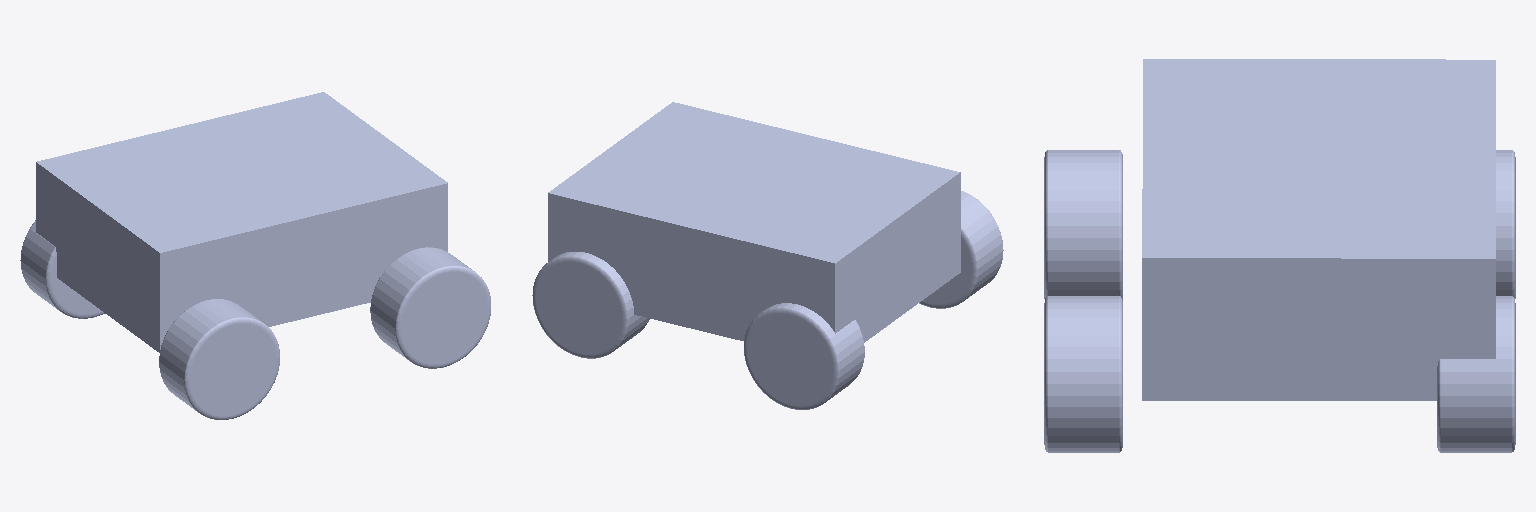
robot.urdf — robot_description:
<?xml version="1.0"?>

<robot name="robot_description">
<!--################################# BASE #####################################-->
  <link name="base_link">
    <inertial>
      <origin
        xyz="0.0030946 4.78250032638821E-11 0.053305"
        rpy="0 0 0" />
      <mass
        value="47.873" />
      <inertia
        ixx="0.774276574699151"
        ixy="-1.03781944357671E-10"
        ixz="0.00763014265820928"
        iyy="1.64933255189991"
        iyz="1.09578155845563E-12"
        izz="2.1239326987473" />
    </inertial>
    <visual>
      <origin
        xyz="0 0 0"
        rpy="1.5707963267949 0 3.14" />
      <geometry>
        <mesh filename="package://manipulator_ros1_to_ros2/meshes/robot_base.stl" />
      </geometry>
      <material
        name="">
        <color
          rgba="0.79216 0.81961 0.93333 1" />
      </material>
    </visual>
    <collision>
      <origin
        xyz="0 0 0"
        rpy="1.5707963267949 0 3.14" />
      <geometry>
        <mesh filename="package://manipulator_ros1_to_ros2/meshes/robot_base.stl" />
      </geometry>
    </collision>
  </link>

<link name="front_left_wheel">
    <inertial>
      <origin
        xyz="-4.1867E-18 0.0068085 -1.65658661799998E-18"
        rpy="0 0 0" />
      <mass
        value="2.6578" />
      <inertia
        ixx="0.00856502765719703"
        ixy="1.5074118157338E-19"
        ixz="-4.78150098725052E-19"
        iyy="0.013670640432096"
        iyz="-2.68136447099727E-19"
        izz="0.00856502765719703" />
    </inertial>
    <visual>
      <origin
        xyz="0 0 0"
        rpy="1.5707963267949 0 0" />
      <geometry>
        <mesh filename="package://manipulator_ros1_to_ros2/meshes/wheel.stl" />
      </geometry>
      <material
        name="">
        <color
          rgba="0.79216 0.81961 0.93333 1" />
      </material>
    </visual>
    <collision>
      <origin
        xyz="0 0 0"
        rpy="1.5707963267949 0 0" />
      <geometry>
        <mesh filename="package://manipulator_ros1_to_ros2/meshes/wheel.stl" />
      </geometry>
    </collision>
  </link>

<link name="front_right_wheel">
    <inertial>
      <origin
        xyz="-4.1867E-18 0.0068085 -1.65658661799998E-18"
        rpy="0 0 0" />
      <mass
        value="2.6578" />
      <inertia
        ixx="0.00856502765719703"
        ixy="1.5074118157338E-19"
        ixz="-4.78150098725052E-19"
        iyy="0.013670640432096"
        iyz="-2.68136447099727E-19"
        izz="0.00856502765719703" />
    </inertial>
    <visual>
      <origin
        xyz="0 0 0"
        rpy="1.5707963267949 0 0" />
      <geometry>
        <mesh filename="package://manipulator_ros1_to_ros2/meshes/wheel.stl" />
      </geometry>
      <material
        name="">
        <color
          rgba="0.79216 0.81961 0.93333 1" />
      </material>
    </visual>
    <collision>
      <origin
        xyz="0 0 0"
        rpy="1.5707963267949 0 0" />
      <geometry>
        <mesh filename="package://manipulator_ros1_to_ros2/meshes/wheel.stl" />
      </geometry>
    </collision>
  </link>

<link name="rear_left_wheel">
    <inertial>
      <origin
        xyz="-4.1867E-18 0.0068085 -1.65658661799998E-18"
        rpy="0 0 0" />
      <mass
        value="2.6578" />
      <inertia
        ixx="0.00856502765719703"
        ixy="1.5074118157338E-19"
        ixz="-4.78150098725052E-19"
        iyy="0.013670640432096"
        iyz="-2.68136447099727E-19"
        izz="0.00856502765719703" />
    </inertial>
    <visual>
      <origin
        xyz="0 0 0"
        rpy="1.5707963267949 0 0" />
      <geometry>
        <mesh filename="package://manipulator_ros1_to_ros2/meshes/wheel.stl" />
      </geometry>
      <material
        name="">
        <color
          rgba="0.79216 0.81961 0.93333 1" />
      </material>
    </visual>
    <collision>
      <origin
        xyz="0 0 0"
        rpy="1.5707963267949 0 0" />
      <geometry>
        <mesh filename="package://manipulator_ros1_to_ros2/meshes/wheel.stl" />
      </geometry>
    </collision>
  </link>

<link name="rear_right_wheel">
    <inertial>
      <origin
        xyz="-4.1867E-18 0.0068085 -1.65658661799998E-18"
        rpy="0 0 0" />
      <mass
        value="2.6578" />
      <inertia
        ixx="0.00856502765719703"
        ixy="1.5074118157338E-19"
        ixz="-4.78150098725052E-19"
        iyy="0.013670640432096"
        iyz="-2.68136447099727E-19"
        izz="0.00856502765719703" />
    </inertial>
    <visual>
      <origin
        xyz="0 0 0"
        rpy="1.5707963267949 0 0" />
      <geometry>
        <mesh filename="package://manipulator_ros1_to_ros2/meshes/wheel.stl" />
      </geometry>
      <material
        name="">
        <color
          rgba="0.79216 0.81961 0.93333 1" />
      </material>
    </visual>
    <collision>
      <origin
        xyz="0 0 0"
        rpy="1.5707963267949 0 0" />
      <geometry>
        <mesh filename="package://manipulator_ros1_to_ros2/meshes/wheel.stl" />
      </geometry>
    </collision>
  </link>


<joint name="front_left_wheel_joint" type="continuous">
    <axis xyz="0 1 0"/>
    <parent link ="base_link"/>
    <child link ="front_left_wheel"/>
    <origin rpy ="0 0 0" xyz= "0.220 0.250 0"/>
  </joint>


<joint name="front_right_wheel_joint" type="continuous">
    <axis xyz="0 1 0"/>
    <parent link ="base_link"/>
    <child link ="front_right_wheel"/>
    <origin rpy ="0 0 0" xyz= "0.220 -0.250 0"/>
  </joint>

<joint name="rear_left_wheel_joint" type="continuous">
    <axis xyz="0 1 0"/>
    <parent link ="base_link"/>
    <child link ="rear_left_wheel"/>
    <origin rpy ="0 0 0" xyz= "-0.220 0.250 0"/>
  </joint>

<joint name="rear_right_wheel_joint" type="continuous">
    <axis xyz="0 1 0"/>
    <parent link ="base_link"/>
    <child link ="rear_right_wheel"/>
    <origin rpy ="0 0 0" xyz= "-0.220 -0.250 0"/>
</joint>
<!--############################## ARM ########################################-->

 <link name="arm_base">
    <inertial>
      <origin
        xyz="7.7128E-09 -0.063005 -3.01969999961422E-08"
        rpy="0 0 0" />
      <mass
        value="1.6004" />
      <inertia
        ixx="0.00552196561445819"
        ixy="7.9550614501301E-10"
        ixz="-1.34378458924839E-09"
        iyy="0.00352397447953875"
        iyz="-1.10071809773382E-08"
        izz="0.00553739792746489" />
    </inertial>
    <visual>
      <origin
        xyz="0 0 0"
        rpy="0 0 0" />
      <geometry>
        <mesh filename="package://manipulator_ros1_to_ros2/meshes/arm_base.stl" />
      </geometry>
      <material
        name="">
        <color
          rgba="0.79216 0.81961 0.93333 1" />
      </material>
    </visual>
    <collision>
      <origin
        xyz="0 0 0"
        rpy="0 0 0" />
      <geometry>
        <mesh filename="package://manipulator_ros1_to_ros2/meshes/arm_base.stl" />
      </geometry>
    </collision>
</link>

<link
    name="bicep">
    <inertial>
      <origin
        xyz="0.12821 3.5589E-06 0.052492"
        rpy="0 0 0" />
      <mass
        value="1.1198" />
      <inertia
        ixx="0.0012474"
        ixy="-5.4004E-07"
        ixz="-0.0013148"
        iyy="0.0072923"
        iyz="-1.8586E-07"
        izz="0.0068178" />
    </inertial>
    <visual>
      <origin
        xyz="0 0 0"
        rpy="0 -1.5708 0" />
      <geometry>
        <mesh filename="package://manipulator_ros1_to_ros2/meshes/bicep.stl" />
      </geometry>
      <material
        name="">
        <color
          rgba="0.79216 0.81961 0.93333 1" />
      </material>
    </visual>
    <collision>
      <origin
        xyz="0 0 0"
        rpy="0 -1.5708 0" />
      <geometry>
        <mesh filename="package://manipulator_ros1_to_ros2/meshes/bicep.stl" />
      </geometry>
    </collision>
  </link>


  <link
    name="bottom_wrist">
    <inertial>
      <origin
        xyz="-9.1053E-08 -0.069257 -1.86629999995759E-07"
        rpy="0 0 0" />
      <mass
        value="0.27721" />
      <inertia
        ixx="0.00104290750143942"
        ixy="4.37155302268076E-09"
        ixz="-2.45049603914627E-09"
        iyy="0.000380518373895034"
        iyz="-7.56009835172156E-09"
        izz="0.00106006525067445" />
    </inertial>
    <visual>
      <origin
        xyz="0 0 0.13522"
        rpy="3.14 0 1.5708" />
      <geometry>
        <mesh filename="package://manipulator_ros1_to_ros2/meshes/wrist.stl" />
      </geometry>
      <material
        name="">
        <color
          rgba="0.79216 0.81961 0.93333 1" />
      </material>
    </visual>
    <collision>
      <origin
        xyz="0 0 0.13522"
        rpy="3.14 0 1.5708" />
      <geometry>
        <mesh filename="package://manipulator_ros1_to_ros2/meshes/wrist.stl" />
      </geometry>
    </collision>
  </link>

 <link
    name="elbow">
    <inertial>
      <origin
        xyz="-0.11109 1.1476E-08 0.046469"
        rpy="0 0 0" />
      <mass
        value="0.84845" />
      <inertia
        ixx="0.00079656"
        ixy="-7.8011E-10"
        ixz="0.00053616"
        iyy="0.003576"
        iyz="4.6326E-10"
        izz="0.0033698" />
    </inertial>
    <visual>
      <origin
        xyz="0.0 0.05163 0.20994"
        rpy="0 -1.5708 0" />
      <geometry>
        <mesh filename="package://manipulator_ros1_to_ros2/meshes/elbow.stl" />
      </geometry>
      <material
        name="">
        <color
          rgba="0.79216 0.81961 0.93333 1" />
      </material>
    </visual>
    <collision>
      <origin
        xyz="0.0 0.05163 0.20994"
        rpy="0 -1.5708 0" />
      <geometry>
        <mesh filename="package://manipulator_ros1_to_ros2/meshes/elbow.stl" />
      </geometry>
    </collision>
  </link>

<link
    name="top_wrist">
    <inertial>
      <origin
        xyz="-9.1053E-08 -0.069257 -1.86629999995759E-07"
        rpy="0 0 0" />
      <mass
        value="0.27721" />
      <inertia
        ixx="0.00104290750143942"
        ixy="4.37155302268076E-09"
        ixz="-2.45049603914627E-09"
        iyy="0.000380518373895034"
        iyz="-7.56009835172156E-09"
        izz="0.00106006525067445" />
    </inertial>
    <visual>
      <origin
        xyz="0 0 0.13522"
        rpy="3.14 0 1.5708" />
      <geometry>
        <mesh filename="package://manipulator_ros1_to_ros2/meshes/wrist.stl" />
      </geometry>
      <material
        name="">
        <color
          rgba="0.79216 0.81961 0.93333 1" />
      </material>
    </visual>
    <collision>
      <origin
        xyz="0 0 0.13522"
        rpy="3.14 0 1.5708" />
      <geometry>
        <mesh filename="package://manipulator_ros1_to_ros2/meshes/wrist.stl" />
      </geometry>
    </collision>
  </link>

<joint name="arm_base_joint" type="continuous">
  <axis xyz="0 0 1"/>
  <parent link="base_link"/>
  <child link="arm_base"/>
  <origin rpy="0 0 0" xyz="0.20 0.0 0.145"/>
</joint>

<joint name="shoulder_joint" type="continuous">
  <axis xyz="0 1 0"/>
  <parent link="arm_base"/>
  <child link="bicep"/>
  <origin rpy="0 0 1.5708" xyz="-0.05166 0.0 0.20271"/>
</joint>

<joint name="bottom_wrist_joint" type="continuous">
  <axis xyz="0 1 0"/>
  <parent link="bicep"/>
  <child link="bottom_wrist"/>
  <origin rpy="0 0 0" xyz="0.0 -0.05194 0.269"/>
</joint>

<joint name="elbow_joint" type="continuous">
  <axis xyz="0 0 1"/>
  <parent link="bottom_wrist"/>
  <child link="elbow"/>
  <origin rpy="0 0 0" xyz="0.0 0 0.13522"/>
</joint>

<joint name="top_wrist_joint" type="continuous">
  <axis xyz="0 1 0"/>
  <parent link="elbow"/>
  <child link="top_wrist"/>
  <origin rpy="0 0 0" xyz="0.0 0 0.20994"/>
</joint>


<!--########################## BASE TRANSMISSIONS ############################################-->
<transmission name="front_left_wheel_trans" type="SimpleTransmission">
  <type>transmission_interface/SimpleTransmission</type>
  <actuator name="front_left_wheel_motor">
   <hardwareInterface>hardware_interface/VelocityJointInterface</hardwareInterface>
   <mechanicalReduction>1</mechanicalReduction>
  </actuator>
  <joint name="front_left_wheel_joint">
   <hardwareInterface>hardware_interface/VelocityJointInterface</hardwareInterface>
  </joint>
</transmission>

<transmission name="front_right_wheel_trans" type="SimpleTransmission">
  <type>transmission_interface/SimpleTransmission</type>
  <actuator name="front_right_wheel_motor">
   <hardwareInterface>hardware_interface/VelocityJointInterface</hardwareInterface>
   <mechanicalReduction>1</mechanicalReduction>
  </actuator>
  <joint name="front_right_wheel_joint">
   <hardwareInterface>hardware_interface/VelocityJointInterface</hardwareInterface>
  </joint>
</transmission>

<transmission name="rear_left_wheel_trans" type="SimpleTransmission">
  <type>transmission_interface/SimpleTransmission</type>
  <actuator name="rear_left_wheel_motor">
   <hardwareInterface>hardware_interface/VelocityJointInterface</hardwareInterface>
   <mechanicalReduction>1</mechanicalReduction>
  </actuator>
  <joint name="rear_left_wheel_joint">
   <hardwareInterface>hardware_interface/VelocityJointInterface</hardwareInterface>
  </joint>
</transmission>

<transmission name="rear_right_wheel_trans" type="SimpleTransmission">
  <type>transmission_interface/SimpleTransmission</type>
  <actuator name="rear_right_wheel_motor">
   <hardwareInterface>hardware_interface/VelocityJointInterface</hardwareInterface>
   <mechanicalReduction>1</mechanicalReduction>
  </actuator>
  <joint name="rear_right_wheel_joint">
   <hardwareInterface>hardware_interface/VelocityJointInterface</hardwareInterface>
  </joint>
</transmission>
<!--################################ ARM TRANSIMISSIONS ######################################-->
<transmission name="arm_base_trans" type="SimpleTransmission">
  <type>transmission_interface/SimpleTransmission</type>
  <actuator name="arm_base_motor">
   <hardwareInterface>hardware_interface/PositionJointInterface</hardwareInterface>
   <mechanicalReduction>1</mechanicalReduction>
  </actuator>
  <joint name="arm_base_joint">
   <hardwareInterface>hardware_interface/PositionJointInterface</hardwareInterface>
  </joint>
</transmission>

<transmission name="shoulder_trans" type="SimpleTransmission">
  <type>transmission_interface/SimpleTransmission</type>
  <actuator name="shoulder_motor">
   <hardwareInterface>hardware_interface/PositionJointInterface</hardwareInterface>
   <mechanicalReduction>1</mechanicalReduction>
  </actuator>
  <joint name="shoulder_joint">
   <hardwareInterface>hardware_interface/PositionJointInterface</hardwareInterface>
  </joint>
</transmission>

<transmission name="bottom_wrist_trans" type="SimpleTransmission">
  <type>transmission_interface/SimpleTransmission</type>
  <actuator name="bottom_wrist_motor">
   <hardwareInterface>hardware_interface/PositionJointInterface</hardwareInterface>
   <mechanicalReduction>1</mechanicalReduction>
  </actuator>
  <joint name="bottom_wrist_joint">
   <hardwareInterface>hardware_interface/PositionJointInterface</hardwareInterface>
  </joint>
</transmission>

<transmission name="elbow_trans" type="SimpleTransmission">
  <type>transmission_interface/SimpleTransmission</type>
  <actuator name="elbow_motor">
   <hardwareInterface>hardware_interface/PositionJointInterface</hardwareInterface>
   <mechanicalReduction>1</mechanicalReduction>
  </actuator>
  <joint name="elbow_joint">
   <hardwareInterface>hardware_interface/PositionJointInterface</hardwareInterface>
  </joint>
</transmission>

<transmission name="top_wrist_trans" type="SimpleTransmission">
  <type>transmission_interface/SimpleTransmission</type>
  <actuator name="top_wrist_motor">
   <hardwareInterface>hardware_interface/PositionJointInterface</hardwareInterface>
   <mechanicalReduction>1</mechanicalReduction>
  </actuator>
  <joint name="top_wrist_joint">
   <hardwareInterface>hardware_interface/PositionJointInterface</hardwareInterface>
  </joint>
</transmission>

<!--######################################################################-->
<gazebo>
    <plugin name="gazebo_ros_control" filename="libgazebo_ros_control.so">
      <robotNamespace>/</robotNamespace>
      <controlPeriod>0.001</controlPeriod>
      <legacyModeNS>false</legacyModeNS>
    </plugin>
  </gazebo>
<!--######################################################################-->
  <gazebo>
    <plugin name="joint_state_publisher" filename="libgazebo_ros_joint_state_publisher.so">
      <jointName>arm_base_joint, shoulder_joint, bottom_wrist_joint, elbow_joint, bottom_wrist_joint</jointName>
    </plugin>
  </gazebo>
<!--######################################################################-->

<!--######################################################################-->
<gazebo>
      <plugin name="diff_drive_controller" filename="libgazebo_ros_diff_drive.so">
        <legacyMode>false</legacyMode>
        <alwaysOn>true</alwaysOn>
        <updateRate>1000.0</updateRate>
        <leftJoint>front_left_wheel_joint, rear_left_wheel_joint</leftJoint>
        <rightJoint>front_right_wheel_joint, rear_right_wheel_joint</rightJoint>
        <wheelSeparation>0.5</wheelSeparation>
        <wheelDiameter>0.2</wheelDiameter>
        <wheelTorque>10</wheelTorque>
        <publishTf>1</publishTf>
        <odometryFrame>map</odometryFrame>
        <commandTopic>cmd_vel</commandTopic>
        <odometryTopic>odom</odometryTopic>
        <robotBaseFrame>base_link</robotBaseFrame>
        <wheelAcceleration>2.8</wheelAcceleration>
        <publishWheelJointState>true</publishWheelJointState>
        <publishWheelTF>false</publishWheelTF>
        <odometrySource>world</odometrySource>
        <rosDebugLevel>Debug</rosDebugLevel>
      </plugin>
</gazebo>
<!--######################################################################-->
<gazebo reference="front_left_wheel">
 <mu1 value="1.0"/>
 <mu2 value="1.0"/>
 <kp value="10000000.0" />
 <kd value="1.0" />
 <fdir1 value="1 0 0"/>
</gazebo>

<gazebo reference="front_right_wheel">
 <mu1 value="1.0"/>
 <mu2 value="1.0"/>
 <kp value="10000000.0" />
 <kd value="1.0" />
 <fdir1 value="1 0 0"/>
</gazebo>

<gazebo reference="rear_left_wheel">
 <mu1 value="1.0"/>
 <mu2 value="1.0"/>
 <kp value="10000000.0" />
 <kd value="1.0" />
 <fdir1 value="1 0 0"/>
</gazebo>

<gazebo reference="rear_left_wheel">
 <mu1 value="1.0"/>
 <mu2 value="1.0"/>
 <kp value="10000000.0" />
 <kd value="1.0" />
 <fdir1 value="1 0 0"/>
</gazebo>
<!--######################################################################-->

</robot>

--- Render facts (derived) ---
Views: 3 orthographic renders of the robot side by side, from view 1: azimuth 30°, elevation 25°; view 2: azimuth 150°, elevation 25°; view 3: azimuth 270°, elevation 25°.
Robot: robot_description — 10 links, 9 joints (9 continuous); root link base_link; default pose: every joint at zero.
Links seen in each view (by area): view 1: base_link, rear_right_wheel, front_right_wheel, rear_left_wheel; view 2: base_link, rear_left_wheel, front_left_wheel, rear_right_wheel; view 3: base_link, front_right_wheel, rear_right_wheel, front_left_wheel, rear_left_wheel.
Boxes of the visible links, box(x1,y1,x2,y2) form: base_link: box(36, 92, 447, 352); rear_right_wheel: box(159, 299, 279, 419); front_right_wheel: box(370, 247, 490, 368); rear_left_wheel: box(20, 220, 104, 318); base_link: box(548, 102, 960, 342); rear_left_wheel: box(744, 303, 864, 409); front_left_wheel: box(532, 252, 649, 358); rear_right_wheel: box(919, 191, 1003, 308); base_link: box(1142, 59, 1495, 400); front_right_wheel: box(1044, 296, 1122, 452); rear_right_wheel: box(1044, 150, 1122, 299); front_left_wheel: box(1437, 296, 1515, 452); rear_left_wheel: box(1496, 150, 1515, 298).
Bounding box of the posed robot: 0.64 × 0.6 × 0.3 m (x, y, z).
5 mesh visuals loaded from 6 distinct referenced files (2 binary STL); not drawn: 5 (reference not matched to a file when rendering).